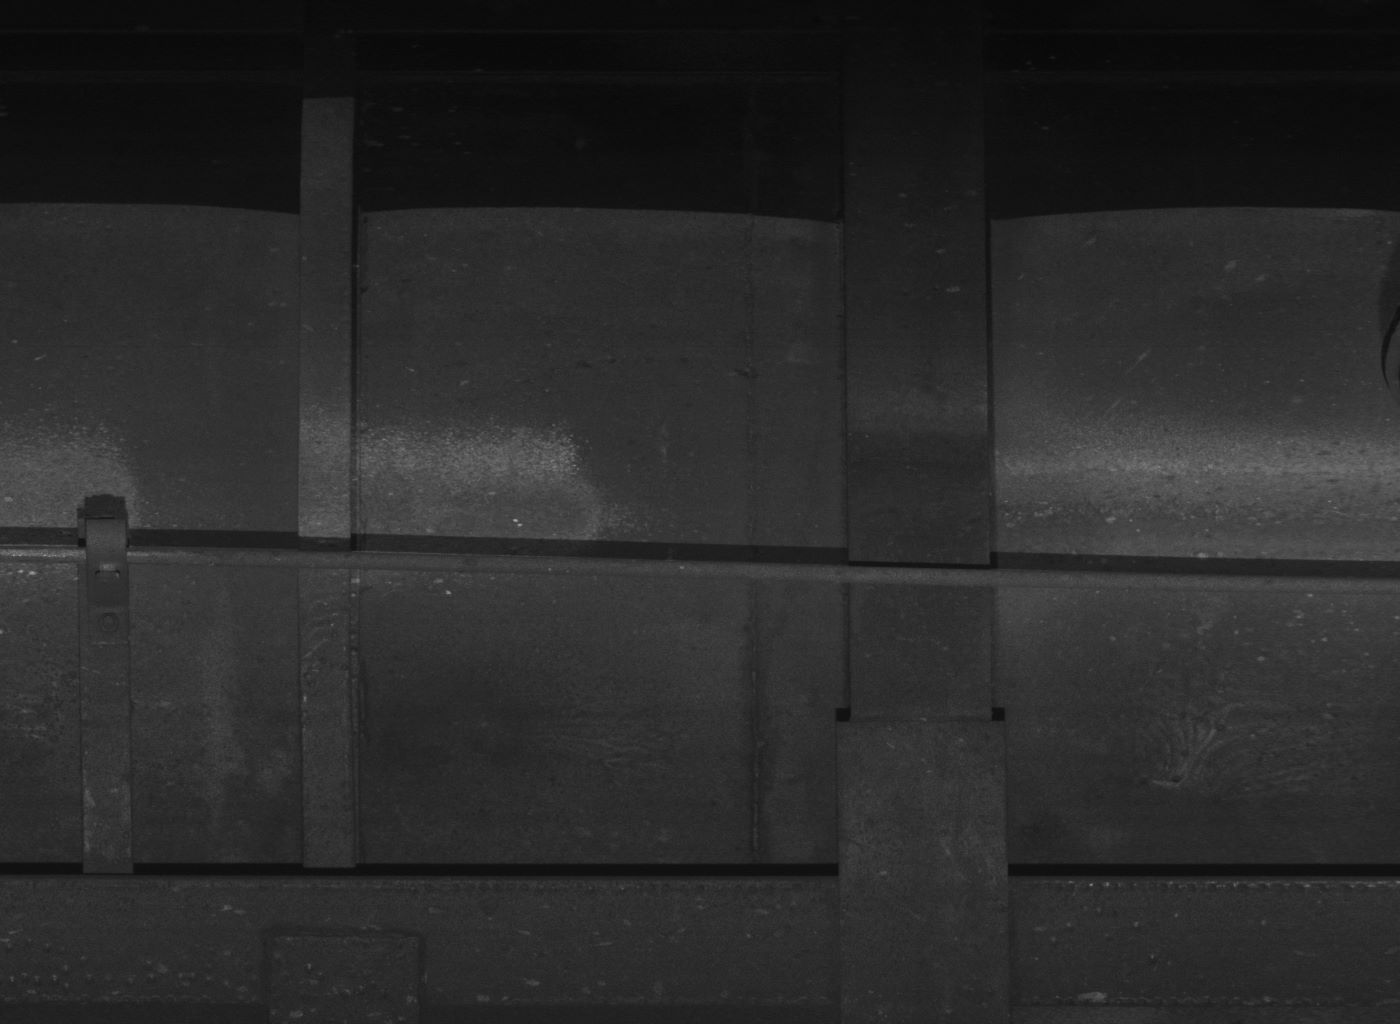normal: (83, 513, 126, 646)
